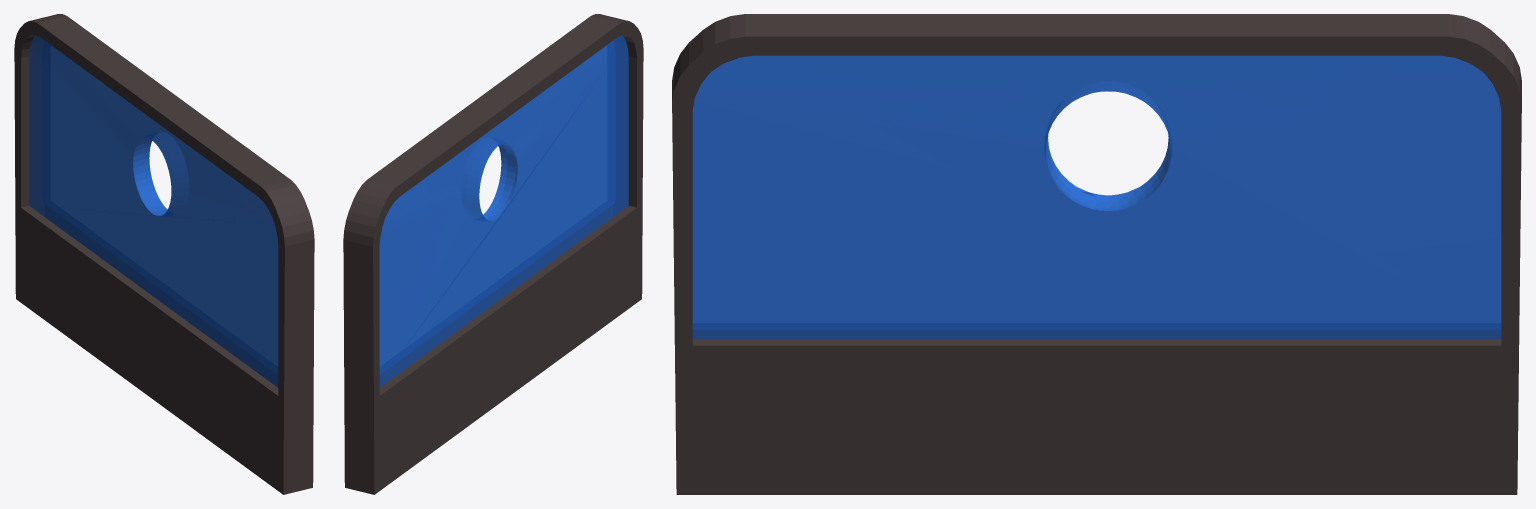
The model's file is blue.fbx.
3 views of the same model, side by side, from view 1: azimuth 30°, elevation 25°; view 2: azimuth 150°, elevation 25°; view 3: azimuth 270°, elevation 25° (orthographic). The views are drawn at different scales.
Parts seen in each view (by area): view 1: Cube.001; view 2: Cube.001; view 3: Cube.001.
Boxes of the visible parts, x1=… form: Cube.001: x1=14, y1=14, x2=314, y2=494; Cube.001: x1=343, y1=14, x2=643, y2=494; Cube.001: x1=672, y1=14, x2=1521, y2=494.
Size of the model in its own units: 88.19 by 830 by 1395.
